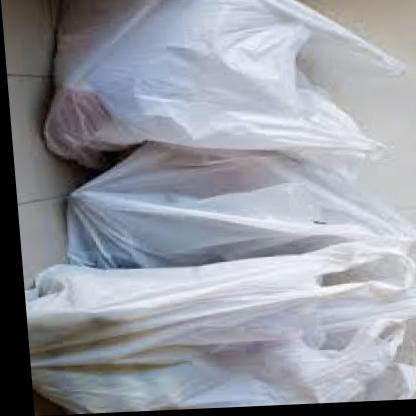Plastic: (30, 0, 416, 168), (25, 242, 413, 407), (63, 146, 416, 276)
